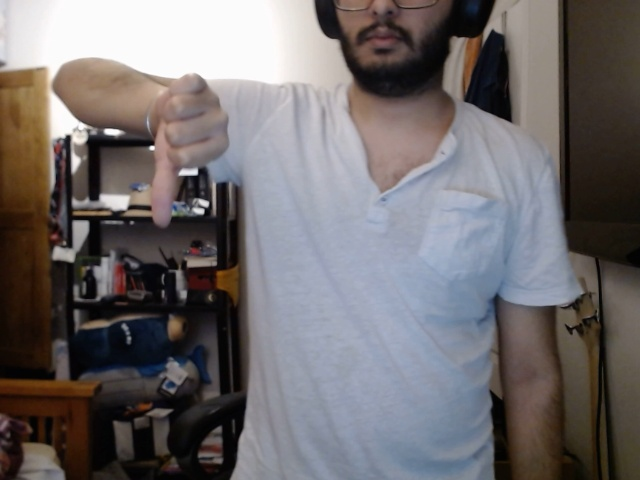Thumbs down: (145, 69, 236, 238)
